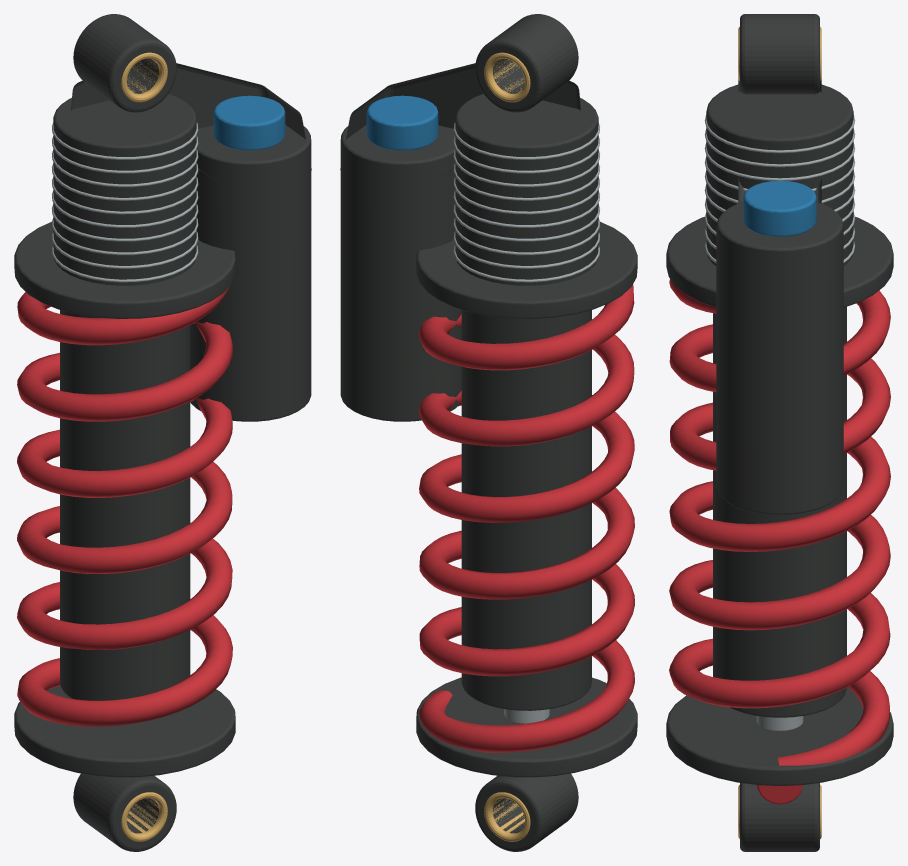
The model's file is rockshox-vivid-coil-ultimate-d1--f2fee2bb.glb.
The picture shows the model from 3 angles, left to right: view 1: azimuth 30°, elevation 25°; view 2: azimuth 150°, elevation 25°; view 3: azimuth 270°, elevation 25°; orthographic projection. The views are drawn at different scales.
Parts seen in each view (by area): view 1: rockshox-vivid-coil-ultimate-d1--f2fee2bb__link, rockshox-vivid-coil-ultimate-d1--f2fee2bb__rebound, rockshox-vivid-coil-ultimate-d1--f2fee2bb__bolts, rockshox-vivid-coil-ultimate-d1--f2fee2bb__adjuster, rockshox-vivid-coil-ultimate-d1--f2fee2bb__stanchions; view 2: rockshox-vivid-coil-ultimate-d1--f2fee2bb__link, rockshox-vivid-coil-ultimate-d1--f2fee2bb__rebound, rockshox-vivid-coil-ultimate-d1--f2fee2bb__bolts, rockshox-vivid-coil-ultimate-d1--f2fee2bb__adjuster, rockshox-vivid-coil-ultimate-d1--f2fee2bb__stanchions; view 3: rockshox-vivid-coil-ultimate-d1--f2fee2bb__link, rockshox-vivid-coil-ultimate-d1--f2fee2bb__rebound, rockshox-vivid-coil-ultimate-d1--f2fee2bb__bolts, rockshox-vivid-coil-ultimate-d1--f2fee2bb__adjuster.
Boxes of the visible parts, box(x1,y1,x2,y2) form: rockshox-vivid-coil-ultimate-d1--f2fee2bb__link: box(14, 14, 311, 851); rockshox-vivid-coil-ultimate-d1--f2fee2bb__rebound: box(17, 286, 232, 726); rockshox-vivid-coil-ultimate-d1--f2fee2bb__bolts: box(52, 122, 198, 282); rockshox-vivid-coil-ultimate-d1--f2fee2bb__adjuster: box(213, 95, 285, 150); rockshox-vivid-coil-ultimate-d1--f2fee2bb__stanchions: box(121, 52, 167, 841); rockshox-vivid-coil-ultimate-d1--f2fee2bb__link: box(340, 14, 637, 851); rockshox-vivid-coil-ultimate-d1--f2fee2bb__rebound: box(418, 284, 634, 752); rockshox-vivid-coil-ultimate-d1--f2fee2bb__bolts: box(453, 122, 599, 723); rockshox-vivid-coil-ultimate-d1--f2fee2bb__adjuster: box(366, 95, 438, 150); rockshox-vivid-coil-ultimate-d1--f2fee2bb__stanchions: box(484, 52, 530, 841); rockshox-vivid-coil-ultimate-d1--f2fee2bb__link: box(666, 14, 893, 851); rockshox-vivid-coil-ultimate-d1--f2fee2bb__rebound: box(669, 279, 890, 804); rockshox-vivid-coil-ultimate-d1--f2fee2bb__bolts: box(704, 115, 855, 730); rockshox-vivid-coil-ultimate-d1--f2fee2bb__adjuster: box(743, 180, 816, 236).
Bounding box in the file's own units: 0.097 × 0.274 × 0.068.
